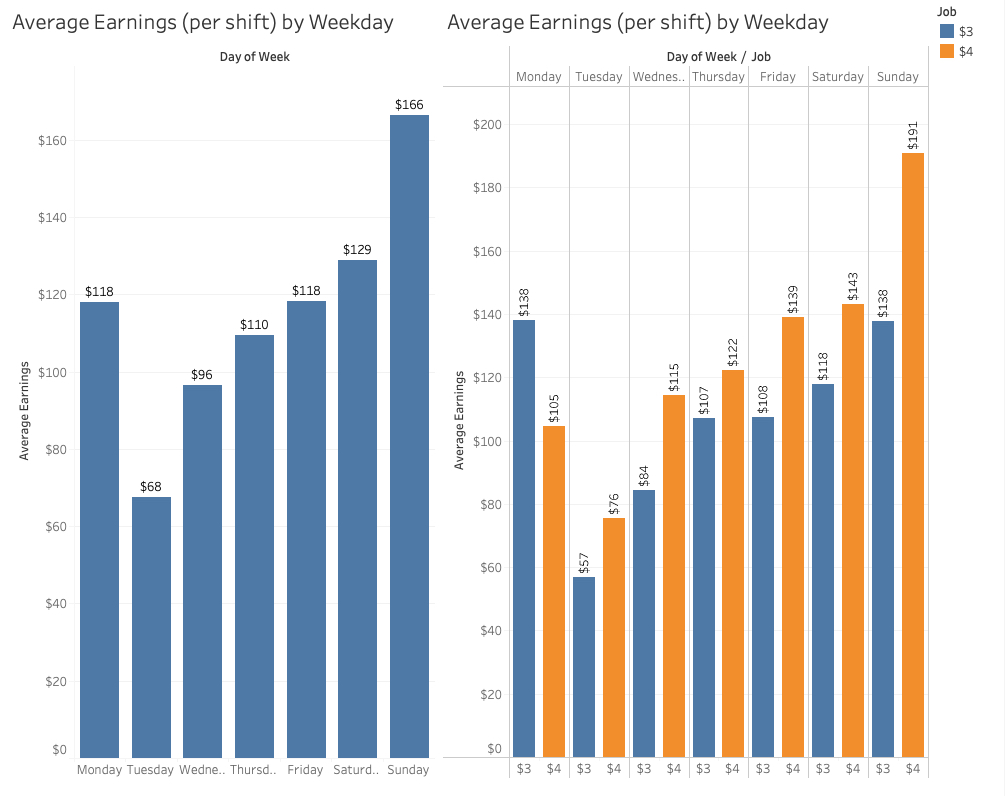

This screenshot's page, from the dashboard's own definition file:
{"tool":"tableau","page":{"name":"Dashboard 4","canvas":[1000,800],"ordinal":5},"visuals":[{"type":"worksheet","title":"-Avg Earning by Weekday","mark":"Automatic","rows":["Earnings"],"cols":["Day of Week"],"box":[8,8,435,784]},{"type":"worksheet","title":"-Avg Earning by Weekday 2","mark":"Automatic","rows":["Earnings"],"cols":["Day of Week","Job"],"box":[443,8,494,784]},{"type":"legend","title":"-Avg Earning by Weekday 2","param":"[federated.1kcdylb13f87kg16sgfmq1agmq5f].[none:Job:nk]","box":[937,8,55,66]}]}

Visuals, with their boxes in screenshot pixels (x1, y1, x2, y2), scaled from the page's 1000x800 canvas onto the 1005x796 screenshot:
"-Avg Earning by Weekday" worksheet: x1=8, y1=8, x2=445, y2=788
"-Avg Earning by Weekday 2" worksheet: x1=445, y1=8, x2=942, y2=788
"-Avg Earning by Weekday 2" legend: x1=942, y1=8, x2=997, y2=74
